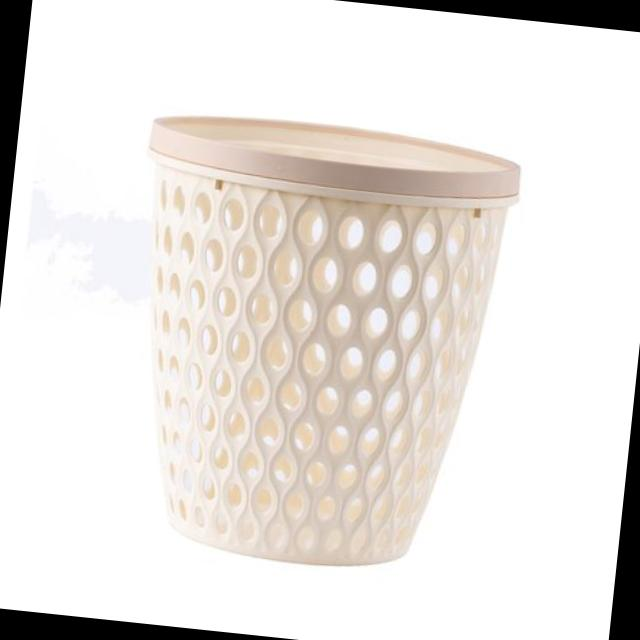dustbin: (100, 93, 530, 594)
